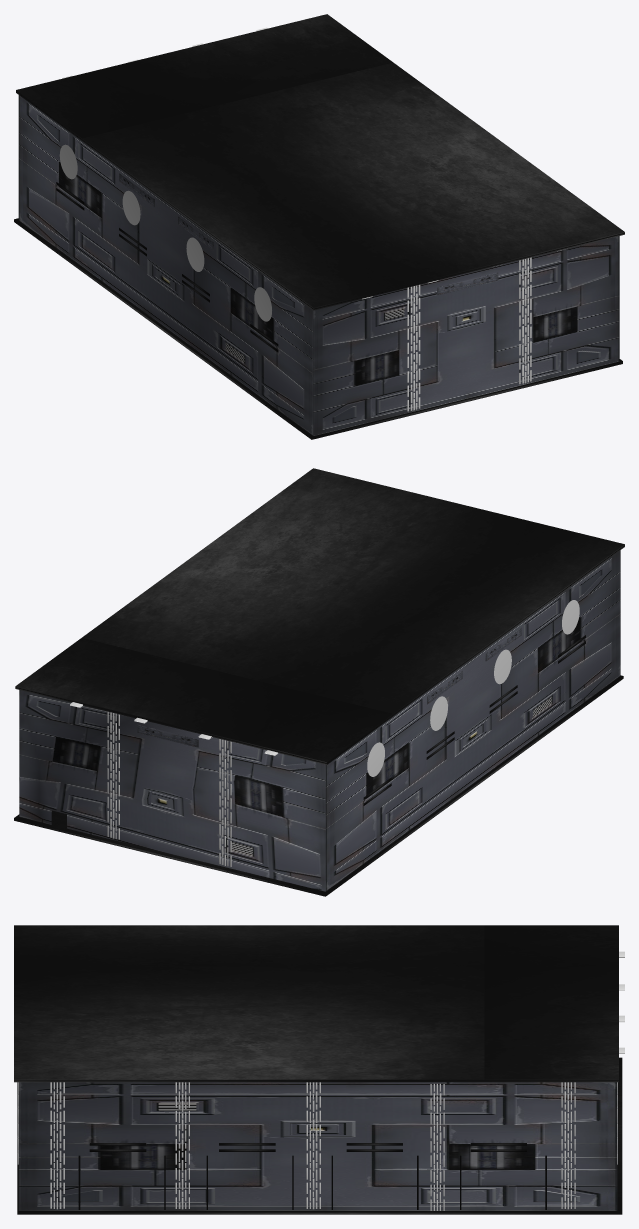
The model's file is Habitaciolvl2.fbx.
3 renders of one model, top to bottom at view 1: azimuth 30°, elevation 25°; view 2: azimuth 150°, elevation 25°; view 3: azimuth 270°, elevation 25°, orthographic.
Parts seen in each view (by area): view 1: Cube, Cubo, Cubo_017, Cubo_009, Cubo_008, Cubo_170; view 2: Cube, Cubo, Cubo_017, Cubo_007, Cubo_006, Cubo_170; view 3: Cube, Cubo, Cubo_017, Cubo_170, Cubo_012, Cubo_011, Cubo_056, Cubo_013, Cubo_014.
Boxes of the visible parts, x1,y1,x2,y2 form: Cube: [16, 14, 624, 310]; Cubo: [18, 95, 619, 435]; Cubo_017: [14, 218, 622, 439]; Cubo_009: [407, 284, 420, 411]; Cubo_008: [519, 257, 531, 384]; Cubo_170: [56, 182, 278, 352]; Cube: [15, 468, 624, 764]; Cubo: [19, 550, 620, 891]; Cubo_017: [14, 675, 623, 896]; Cubo_007: [219, 739, 231, 866]; Cubo_006: [107, 711, 119, 839]; Cubo_170: [363, 635, 585, 805]; Cube: [14, 925, 618, 1082]; Cubo: [18, 1082, 617, 1210]; Cubo_017: [17, 1057, 622, 1214]; Cubo_170: [89, 1143, 526, 1151]; Cubo_012: [306, 1082, 320, 1209]; Cubo_011: [175, 1082, 189, 1209]; Cubo_056: [50, 1082, 64, 1209]; Cubo_013: [430, 1083, 444, 1210]; Cubo_014: [561, 1082, 575, 1209].
Bounding box in the file's own units: 61.04 × 24.91 × 102.
